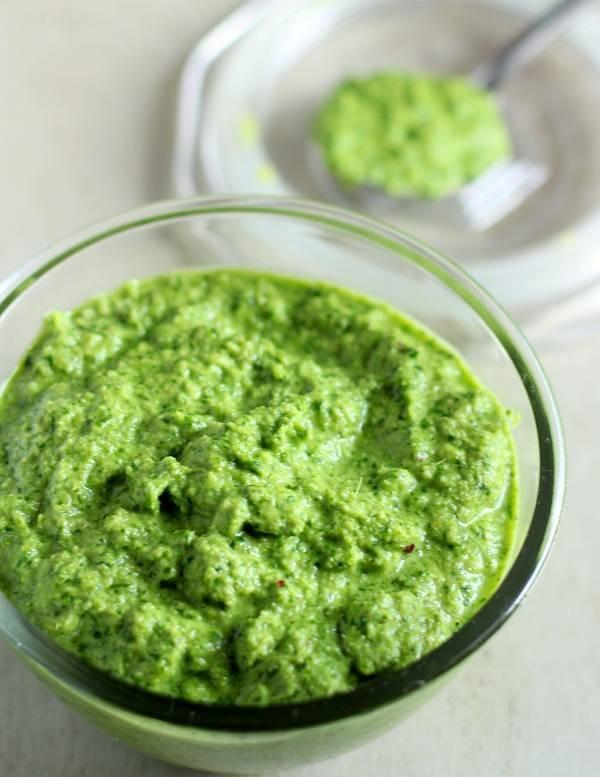GreenChutney: (0, 273, 511, 703)
